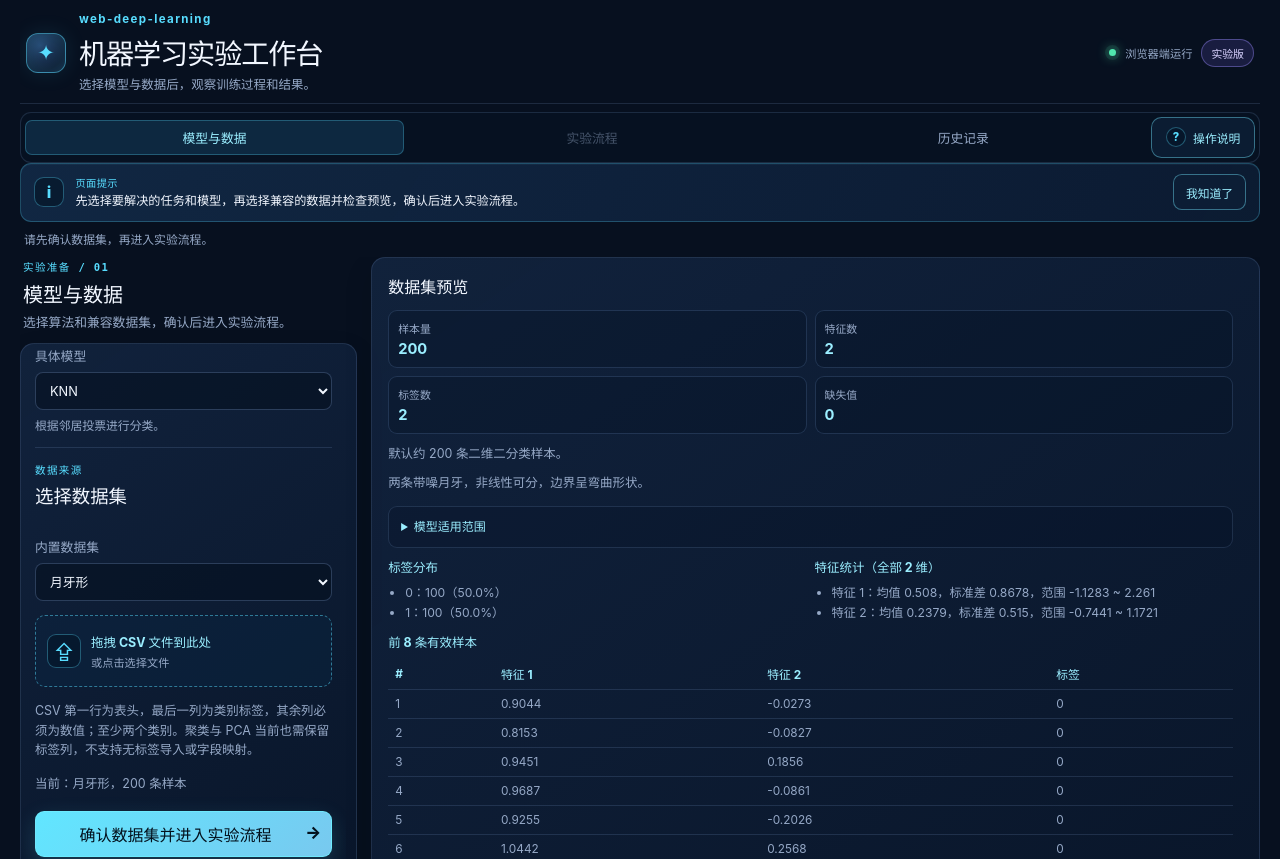
Test: 实验工作台 › 更换数据集后清空当前训练结果并保留模型配置
The width and height of the screenshot is (1280, 859).
(page scrolled)
Step 1. Click the button "确认数据集并进入实验流程 →" → point(184, 834), box x1=35 y1=811 x2=332 y2=857
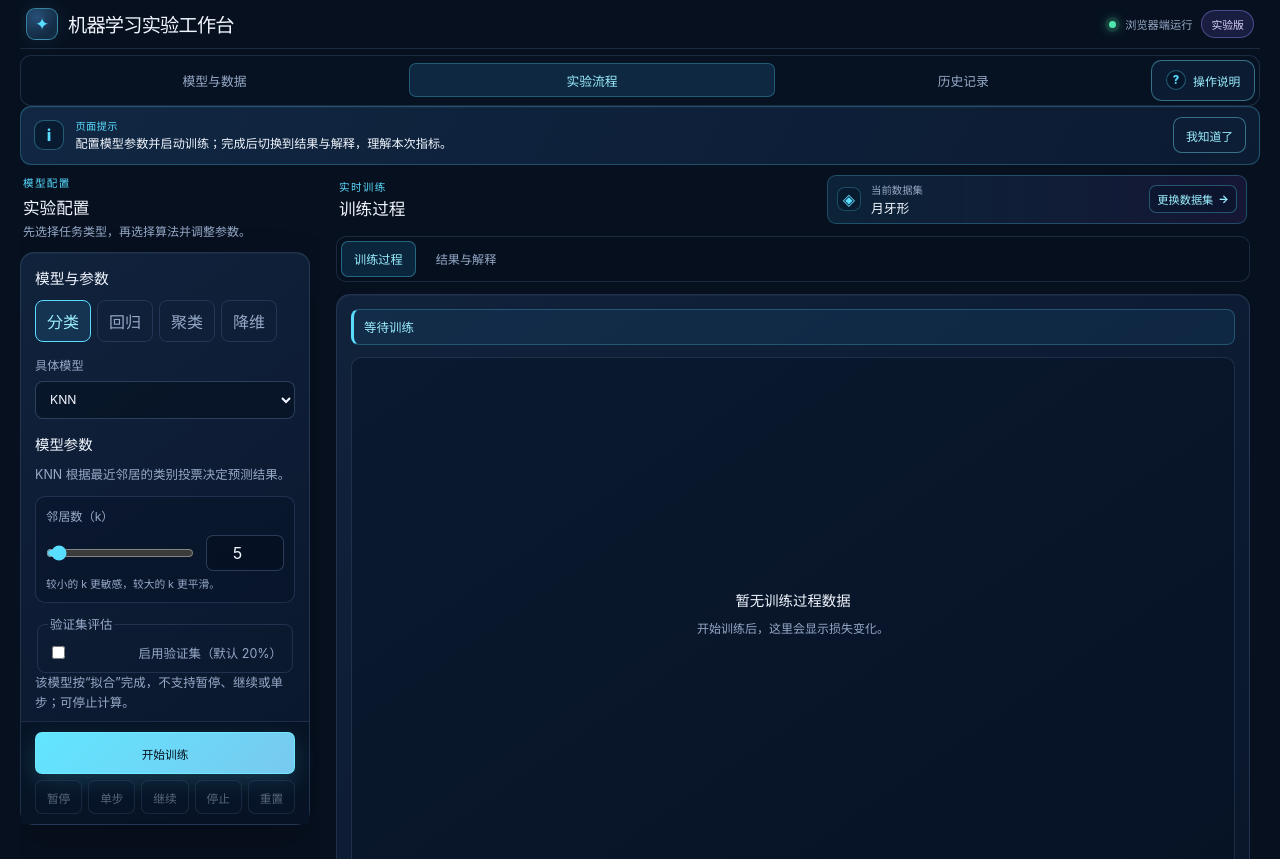
Step 2. Select "KNN" in the dropdown labelled "具体模型" → point(165, 400), box x1=35 y1=381 x2=295 y2=419
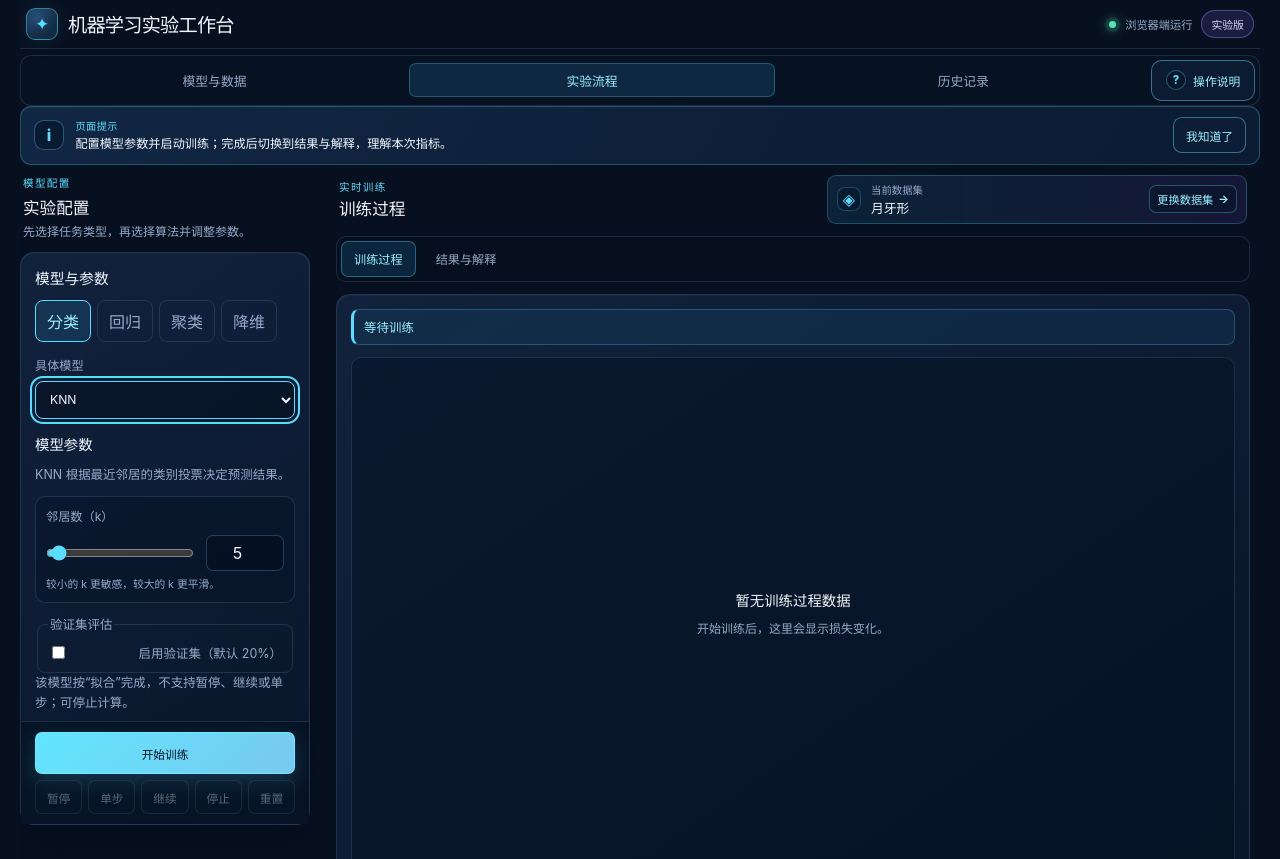
Step 3. Click the button "更换数据集 →" → point(1193, 199), box x1=1149 y1=185 x2=1237 y2=213
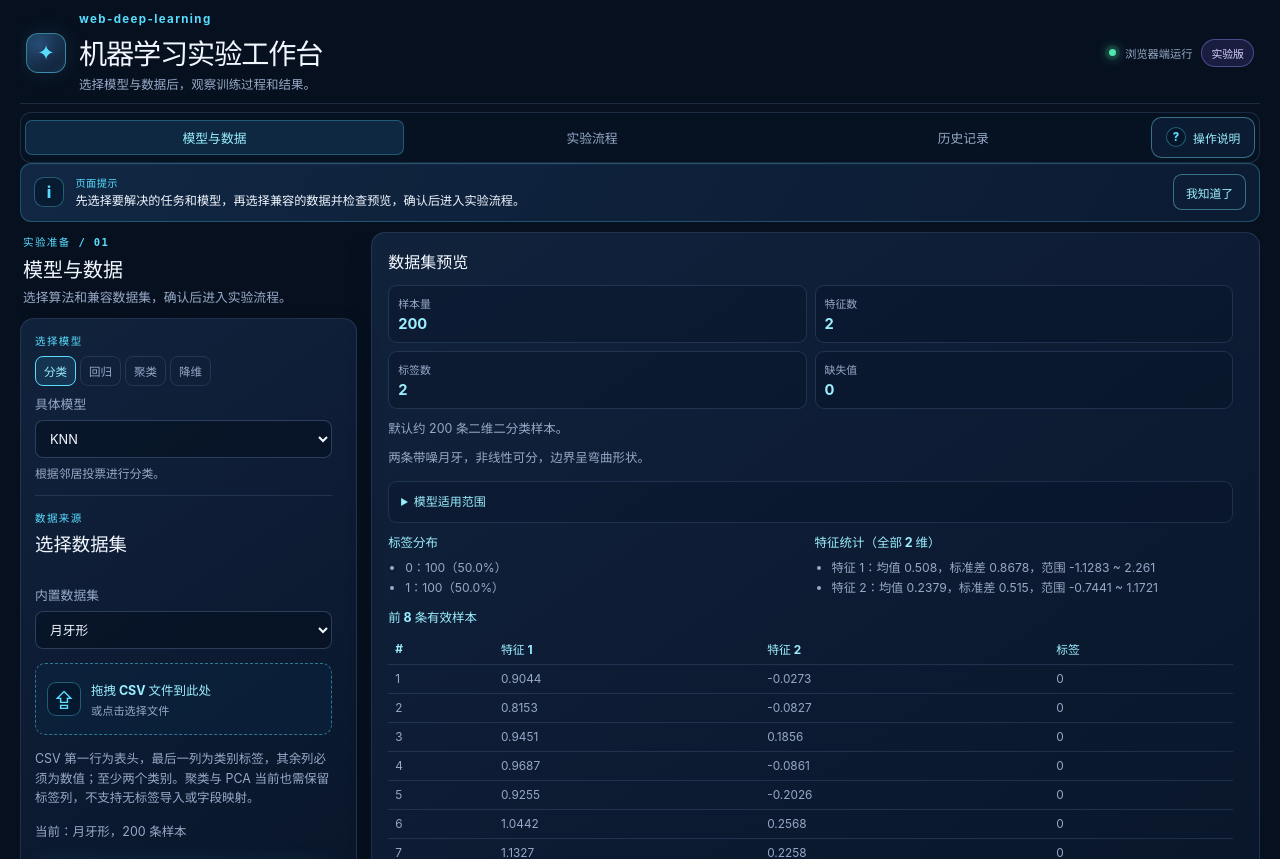
Expected: the heading "模型与数据" is shown, x1=23 y1=258 x2=123 y2=282
Step 4. Select "XOR" in the dropdown labelled "内置数据集" → point(184, 630), box x1=35 y1=612 x2=332 y2=650
(page scrolled)
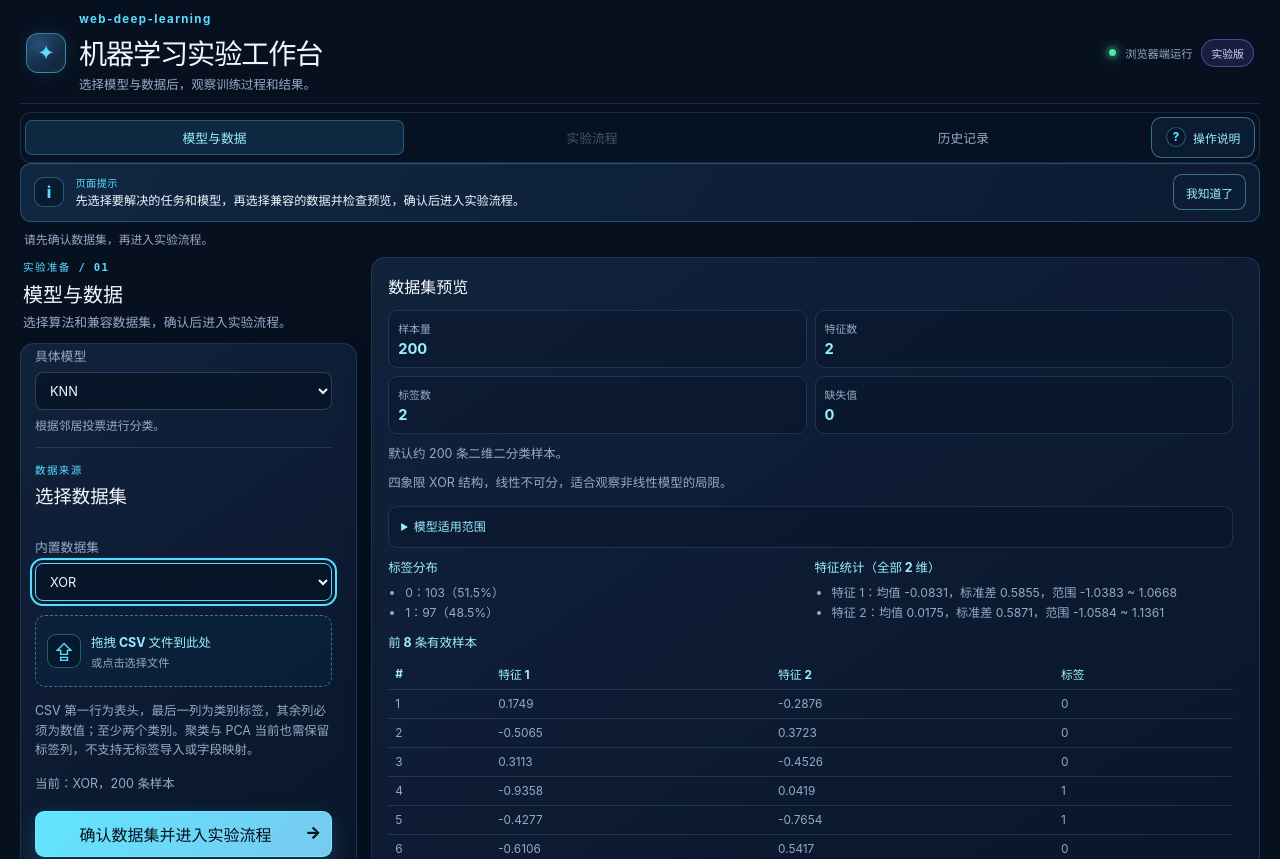
Step 5. Click the button "确认数据集并进入实验流程 →" → point(184, 834), box x1=35 y1=811 x2=332 y2=857
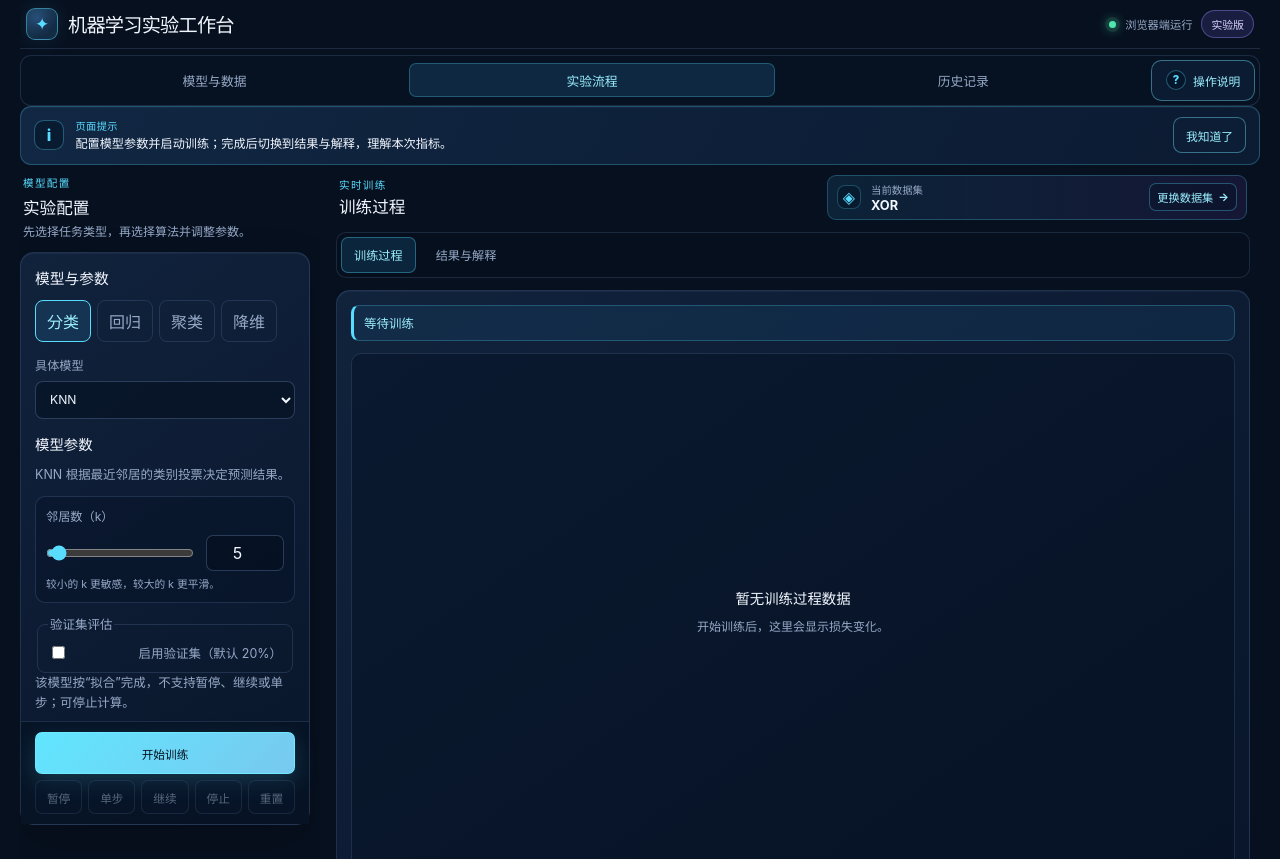
Expected: the dropdown labelled "具体模型" shows "KNN", x1=35 y1=381 x2=295 y2=419
Expected: the text "等待训练" is shown, x1=351 y1=305 x2=1235 y2=341
